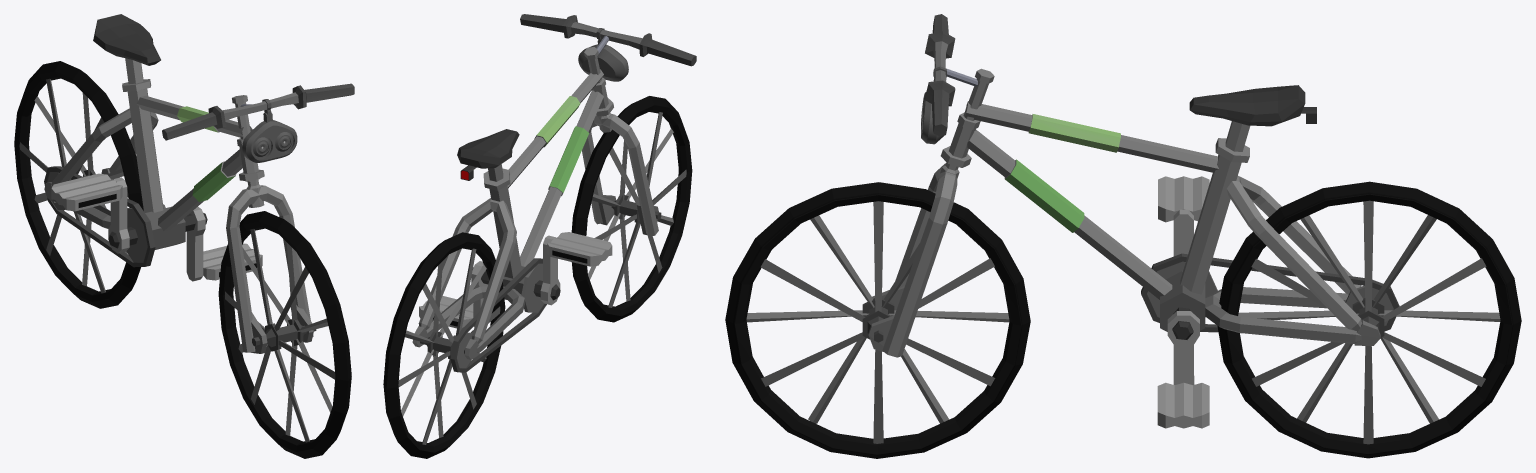
File: cycle_1.glb
3 views of the same model, side by side, from view 1: azimuth 30°, elevation 25°; view 2: azimuth 150°, elevation 25°; view 3: azimuth 270°, elevation 25° (orthographic). The views are drawn at different scales.
Parts seen in each view (by area): view 1: SM_Veh_Bike_02_Combined, Horn; view 2: SM_Veh_Bike_02_Combined, Horn; view 3: SM_Veh_Bike_02_Combined.
Part boxes in pixels (x1,y1,x2,y2): SM_Veh_Bike_02_Combined: [14, 14, 354, 458]; Horn: [242, 99, 297, 162]; SM_Veh_Bike_02_Combined: [383, 14, 696, 458]; Horn: [578, 28, 628, 81]; SM_Veh_Bike_02_Combined: [725, 14, 1521, 458].
Size of the model in its own units: 0.6885 by 1.12 by 2.02.
3 materials, 1 textured.
